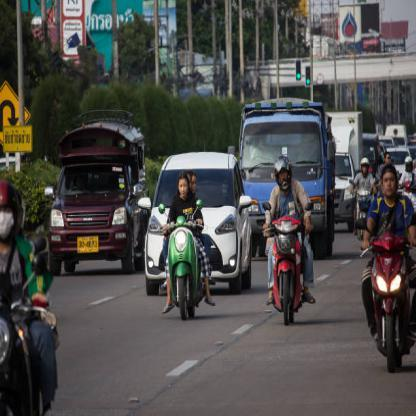Motorcycle: (365, 225, 415, 371), (262, 197, 308, 336), (163, 207, 208, 316)
